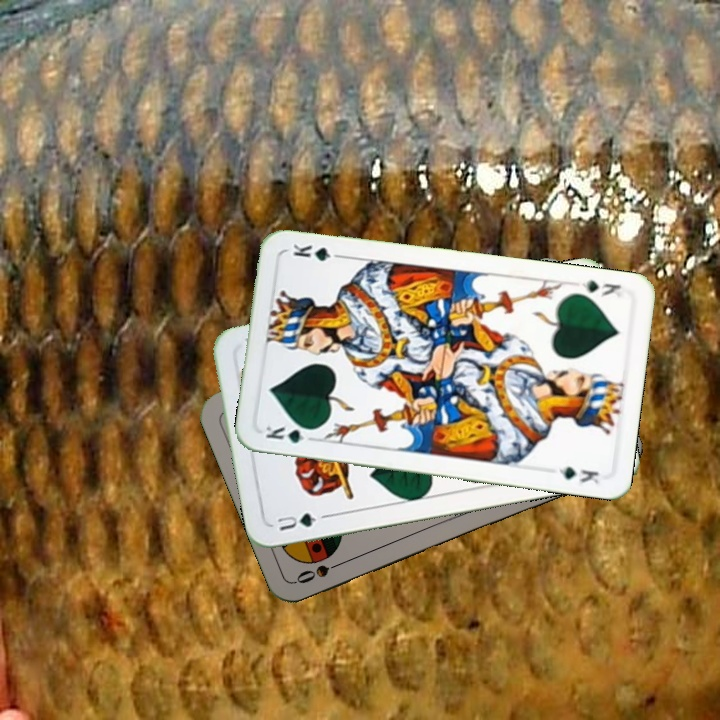GK: (261, 421, 319, 446), (578, 276, 624, 300)
GU: (273, 508, 319, 534)
SO: (292, 556, 349, 586)
